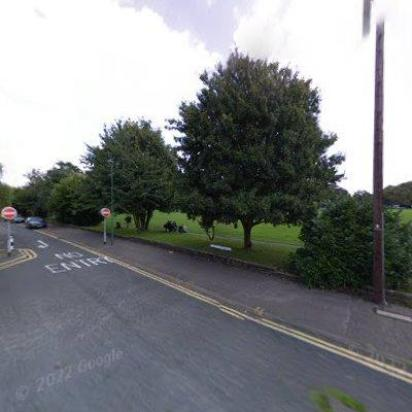stationary-car-onstreet: (24, 215, 48, 230), (12, 214, 22, 224)
